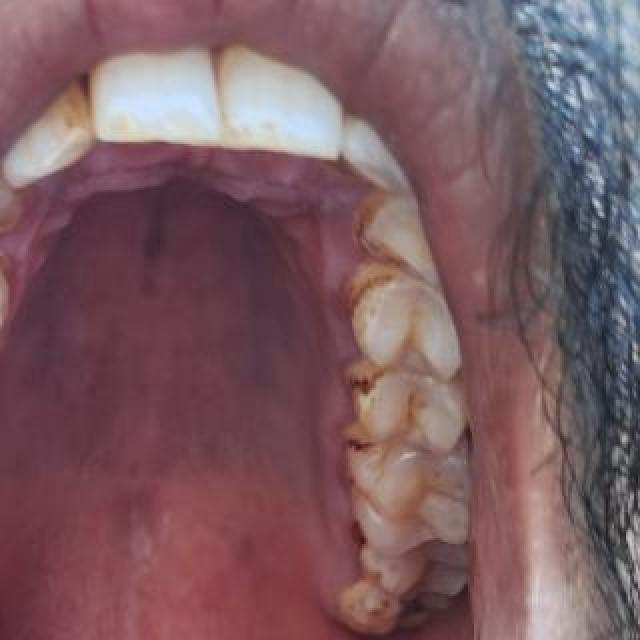cavities: (383, 578, 433, 636)
stains: (328, 564, 470, 640), (342, 356, 434, 452), (339, 264, 411, 360), (340, 177, 402, 281), (51, 61, 111, 155), (333, 417, 381, 527), (349, 512, 397, 588), (0, 244, 32, 334), (0, 182, 46, 244), (0, 346, 4, 430)
